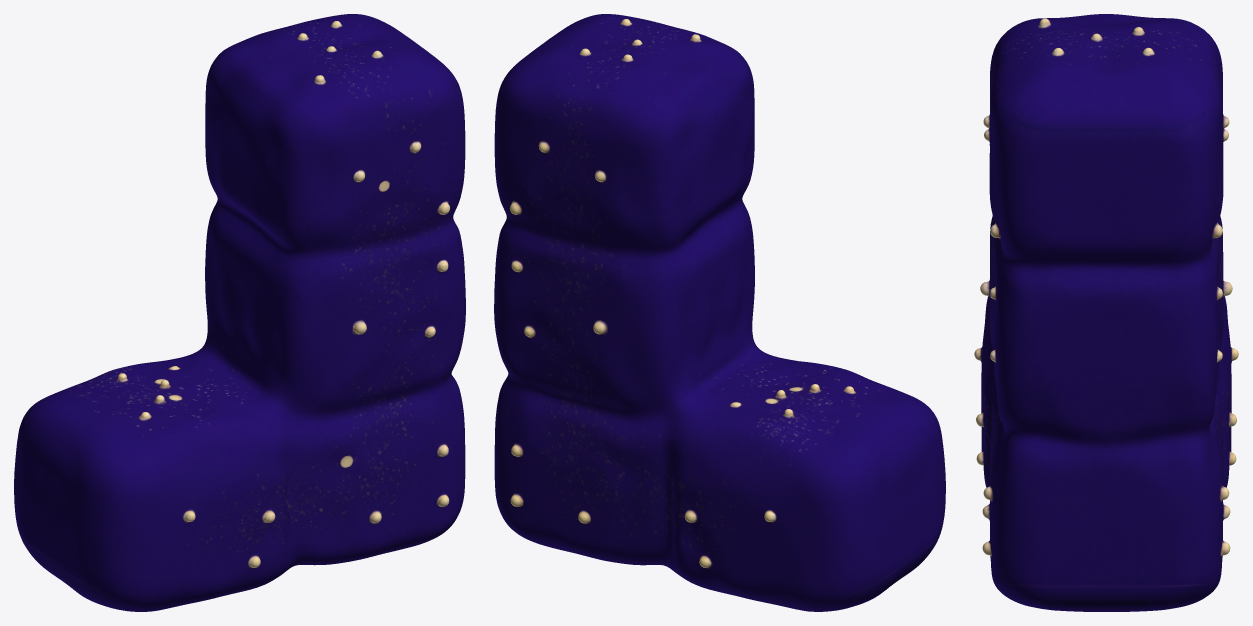
Rendered from prop-cosmic-blocks.glb.
3 views of the same model, side by side, from view 1: azimuth 30°, elevation 25°; view 2: azimuth 150°, elevation 25°; view 3: azimuth 270°, elevation 25° (orthographic). The views are drawn at different scales.
Size of the model in its own units: 1.53 by 1.9 by 0.8375.
1 material, 1 textured.
